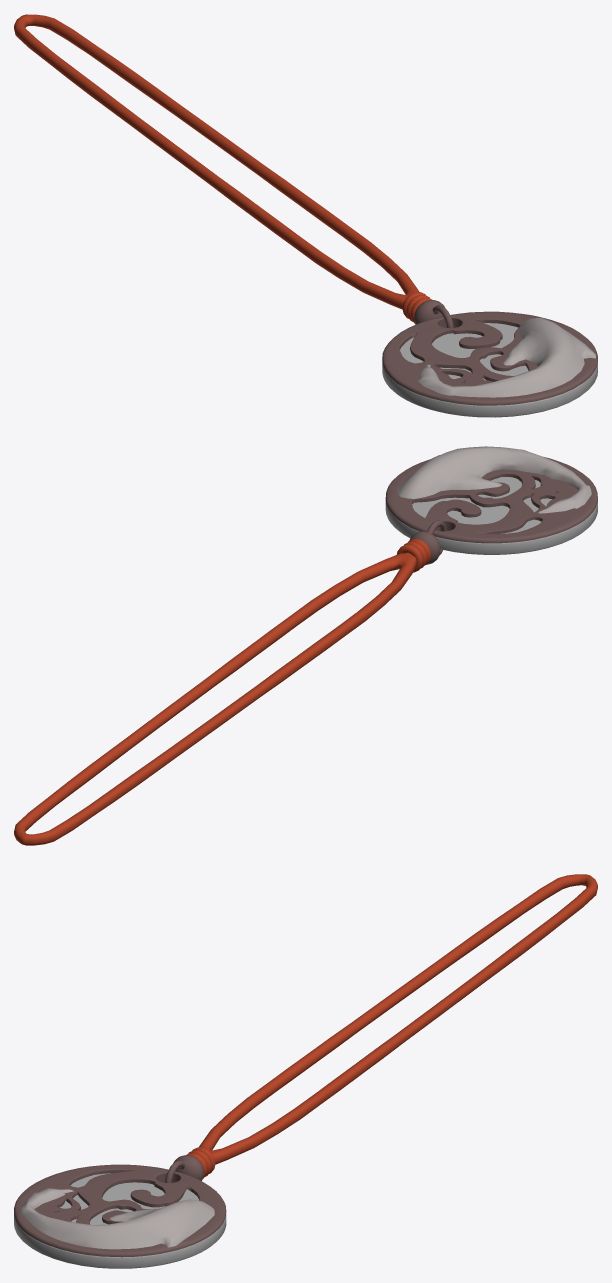
File: JADE.fbx
3 renders of one model, top to bottom at view 1: azimuth 30°, elevation 25°; view 2: azimuth 150°, elevation 25°; view 3: azimuth 330°, elevation 25°, orthographic.
Parts seen in each view (by area): view 1: rope1, wood_chips1, fish1, jade1, buckle1; view 2: rope1, wood_chips1, fish1, jade1, buckle1; view 3: rope1, wood_chips1, fish1, jade1, buckle1.
Part boxes in pixels (left/top/right/bottom): rope1: left=14, top=14, right=432, bottom=323; wood_chips1: left=382, top=311, right=597, bottom=405; fish1: left=418, top=317, right=595, bottom=397; jade1: left=382, top=323, right=597, bottom=417; buckle1: left=414, top=300, right=453, bottom=327; rope1: left=14, top=539, right=431, bottom=845; wood_chips1: left=385, top=457, right=597, bottom=543; fish1: left=397, top=446, right=591, bottom=513; jade1: left=385, top=477, right=597, bottom=554; buckle1: left=409, top=520, right=446, bottom=564; rope1: left=186, top=874, right=597, bottom=1178; wood_chips1: left=14, top=1164, right=226, bottom=1257; fish1: left=20, top=1188, right=214, bottom=1249; jade1: left=14, top=1173, right=226, bottom=1268; buckle1: left=165, top=1155, right=203, bottom=1182.
Size of the model in its own units: 0.0607 by 0.0144 by 0.2958.
